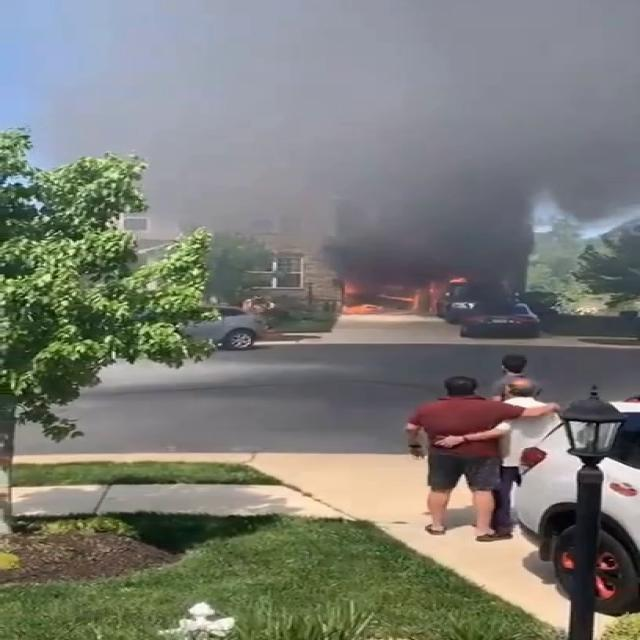Smoke: (140, 0, 638, 289)
